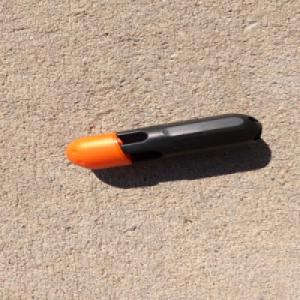PlasticPart: (63, 112, 263, 170)
